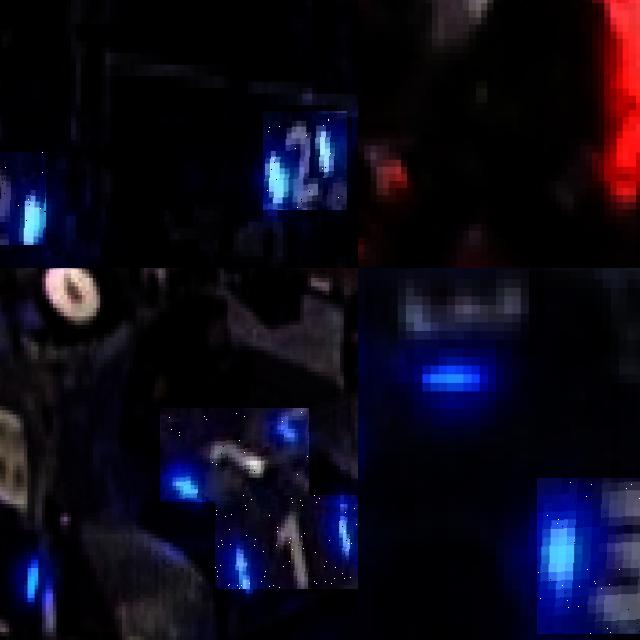B1: (160, 408, 309, 502), (214, 495, 358, 589), (0, 517, 44, 611)
B2: (263, 111, 347, 210), (0, 152, 46, 245)
B3: (537, 478, 640, 633)
